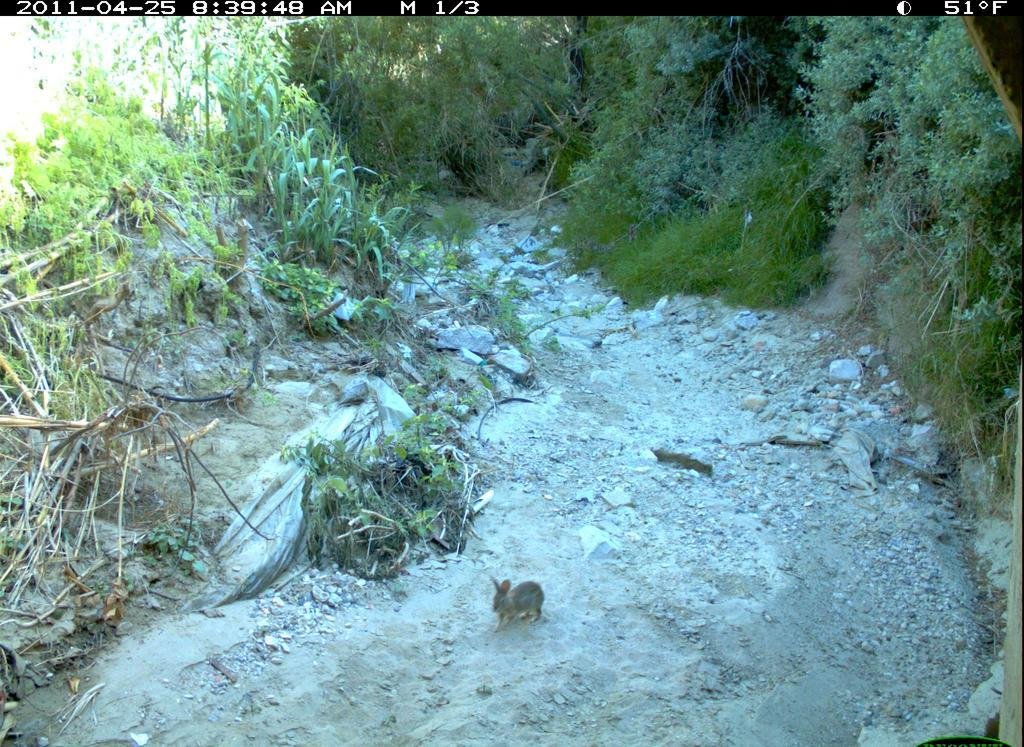rabbit: (475, 555, 566, 648)
